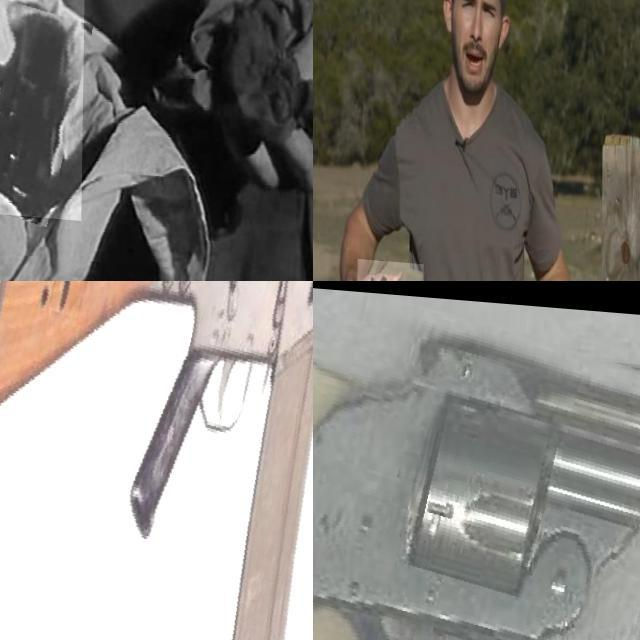gun-knife-thesis - v11 Yolov5 augmented: (313, 281, 640, 640), (0, 281, 313, 640), (0, 0, 105, 215)
